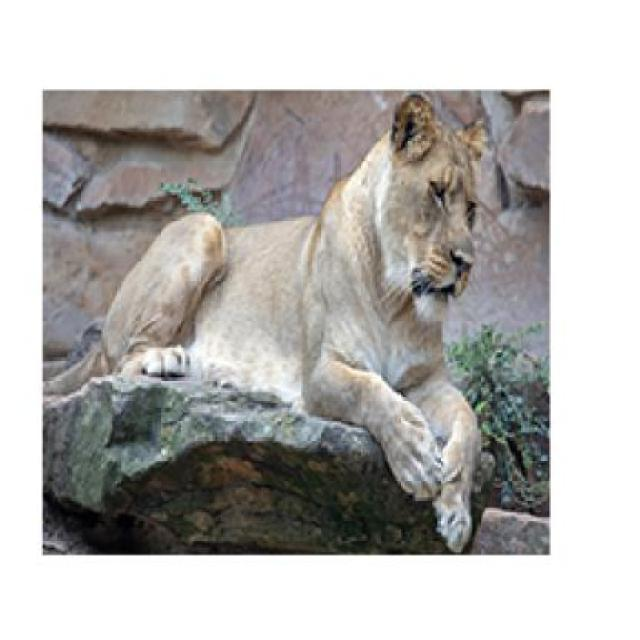Lion: (40, 105, 498, 609)
